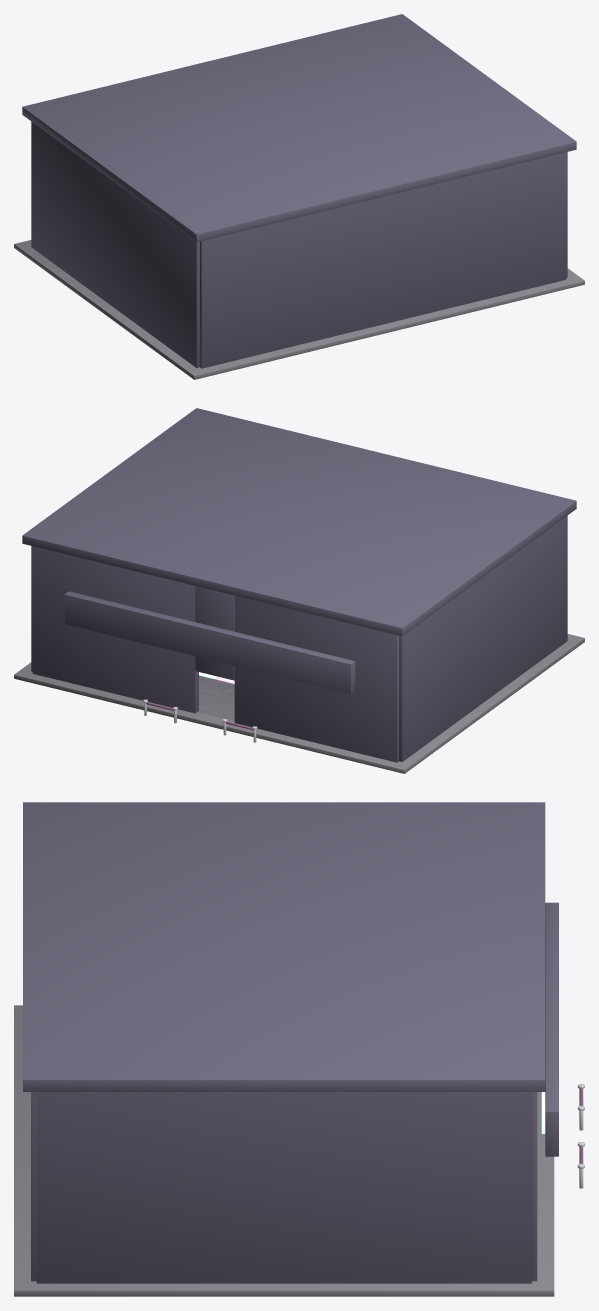
File: th12_nachtclub.glb
3 renders of one model, top to bottom at view 1: azimuth 30°, elevation 25°; view 2: azimuth 150°, elevation 25°; view 3: azimuth 270°, elevation 25°, orthographic. The views are drawn at different scales.
Visible parts, largest first — view 1: Cube.008, Cube.005, Cube.006, Cube; view 2: Cube.008, Cube.006, Cube.002, Cube.003, Cube.009, Cube, Cube.004, Cube.001; view 3: Cube.008, Cube.007, Cube, Cube.009, Cube.005, Cube.003.
Part boxes in pixels (x1,y1,x2,y2): Cube.008: (22,14,576,242); Cube.005: (200,152,566,368); Cube.006: (31,121,199,367); Cube: (14,240,584,379); Cube.008: (22,408,576,636); Cube.006: (399,515,567,761); Cube.002: (234,595,398,762); Cube.003: (32,546,198,713); Cube.009: (64,591,355,693); Cube: (14,634,584,773); Cube.004: (195,586,234,680); Cube.001: (198,675,234,720); Cube.008: (23,802,545,1091); Cube.007: (36,1092,531,1283); Cube: (14,1005,554,1296); Cube.009: (545,902,558,1156); Cube.005: (31,1092,36,1281); Cube.003: (532,1092,537,1281).
Bounding box in the file's own units: 30 × 10.44 × 25.36.
